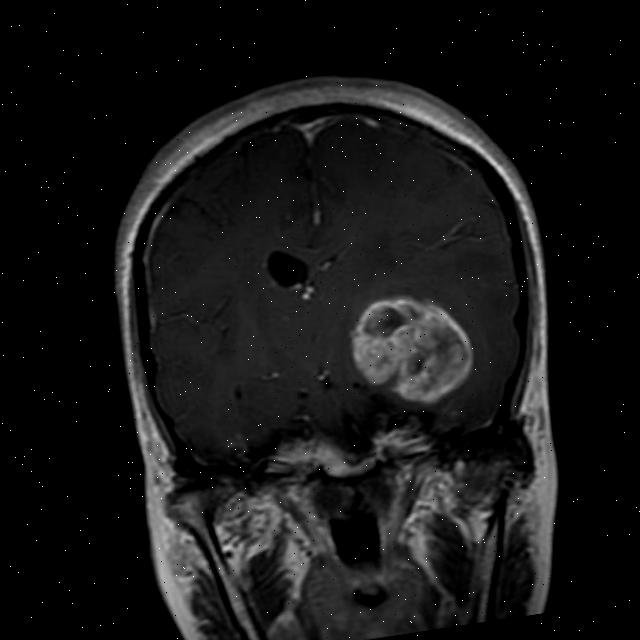Glioma: (346, 285, 483, 412)
Pituitary: (318, 435, 379, 482)
